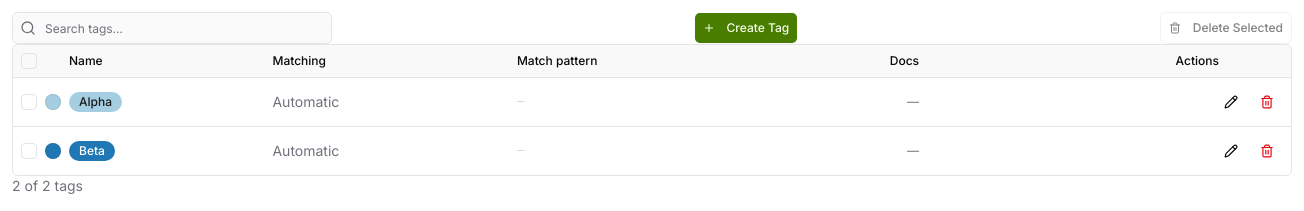
Scenario: Management table refinements › bulk deletes the selected tags
Click the checkbox named "Select Alpha" at x=29, y=102, box [21,94,37,110]
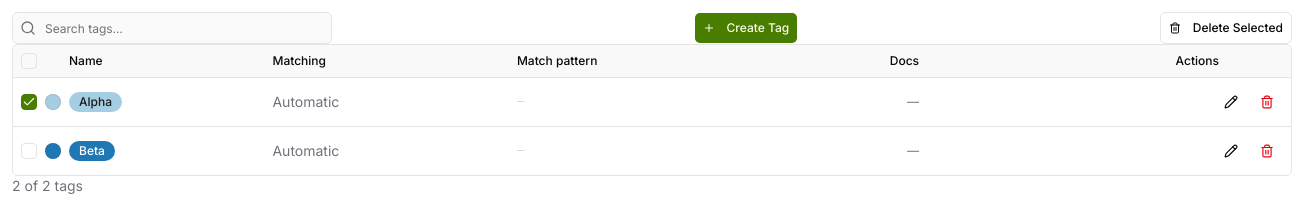
Click the checkbox named "Select Beta" at x=29, y=150, box [21,142,37,158]
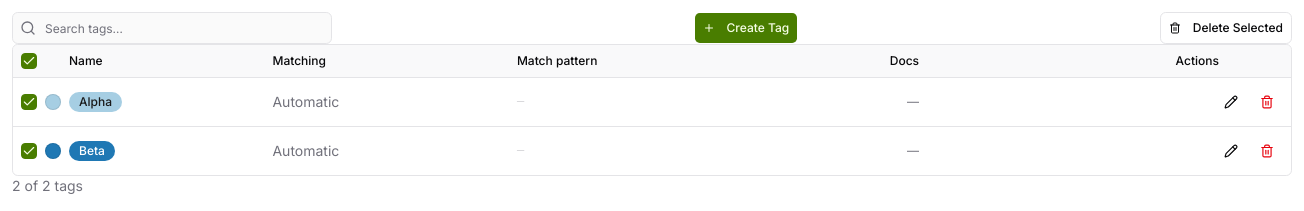
Click the button "Delete Selected" at x=1226, y=28, box [1160,12,1292,44]
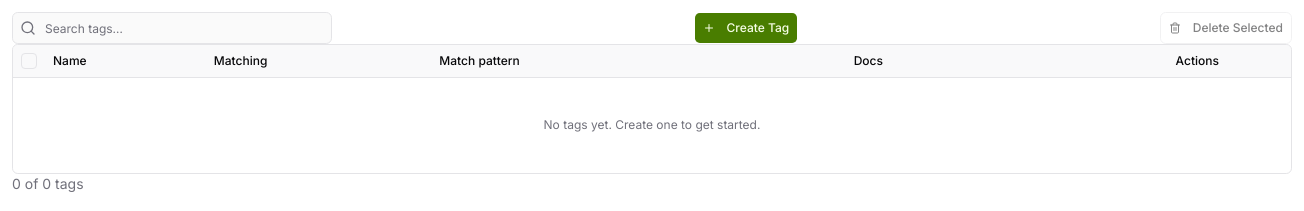
Expected: the text "Alpha" is gone
Expected: the text "Beta" is gone
